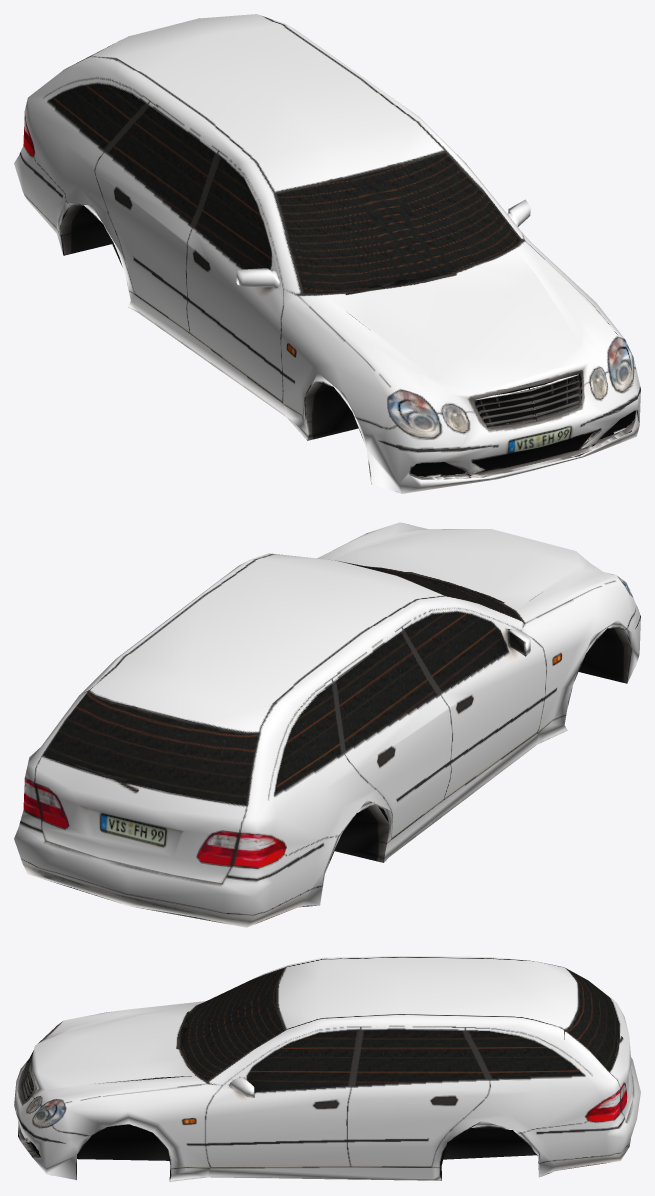
The model's file is mobile_car_0018.fbx.
3 views of the same model, one above another, from view 1: azimuth 30°, elevation 25°; view 2: azimuth 150°, elevation 25°; view 3: azimuth 270°, elevation 25° (orthographic). The views are drawn at different scales.
Visible parts, largest first — view 1: Mesh; view 2: Mesh; view 3: Mesh.
Boxes of the visible parts, x1,y1,x2,y2 form: Mesh: (14,14,640,493); Mesh: (14,522,640,927); Mesh: (14,956,640,1181).
Size of the model in its own units: 196 by 131 by 490.
